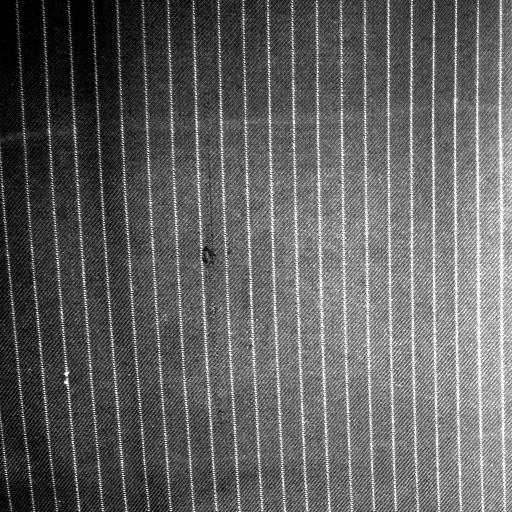fabric_hole: (196, 238, 226, 280)
